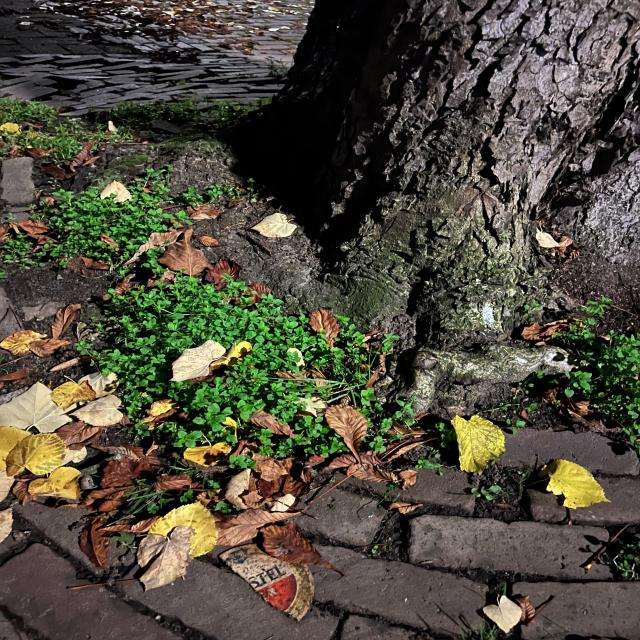leaves: (8, 320, 102, 524), (118, 494, 311, 566), (539, 453, 622, 510), (446, 410, 504, 471), (262, 212, 298, 240)
pavement: (346, 496, 600, 640), (0, 18, 286, 106), (15, 547, 231, 632)
plants: (39, 172, 375, 460), (533, 306, 640, 438), (0, 107, 244, 161)
